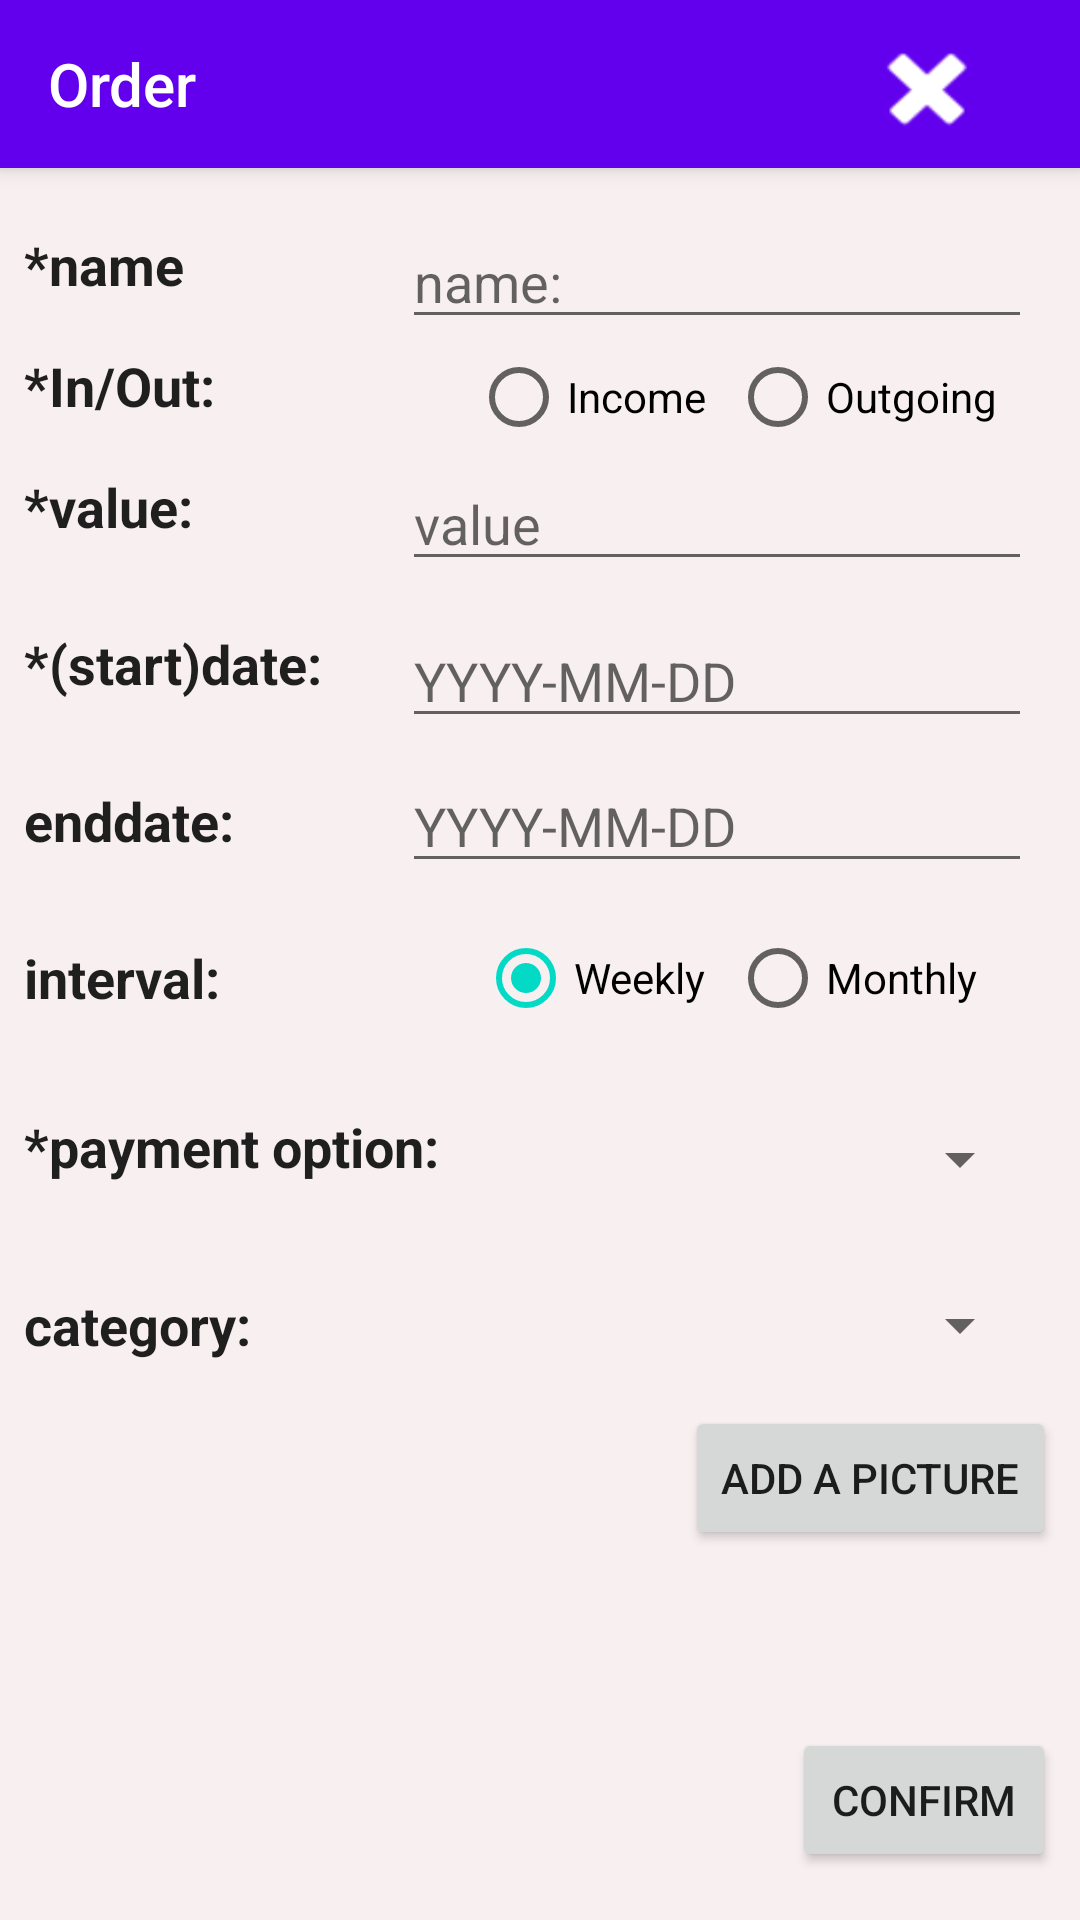

Icons on this 1080 × 1920 Android screen, each with the point to tap as (x=x, y=y):
delete: (x=927, y=89)
